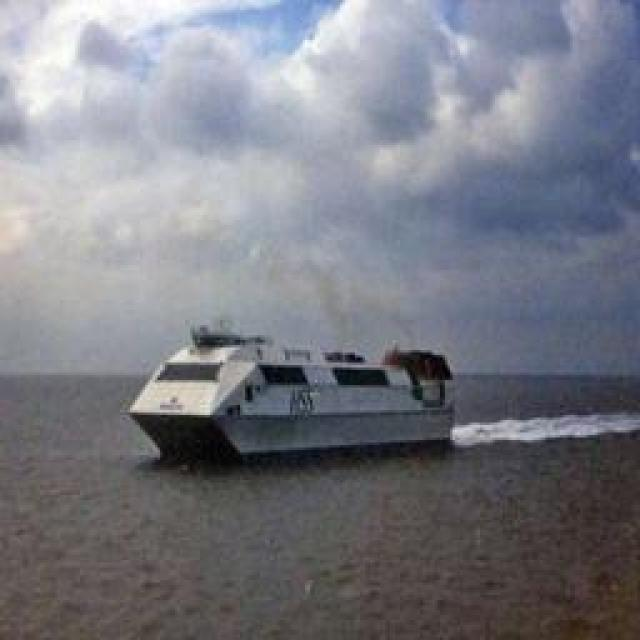CIV_Ship: (127, 326, 465, 459)
